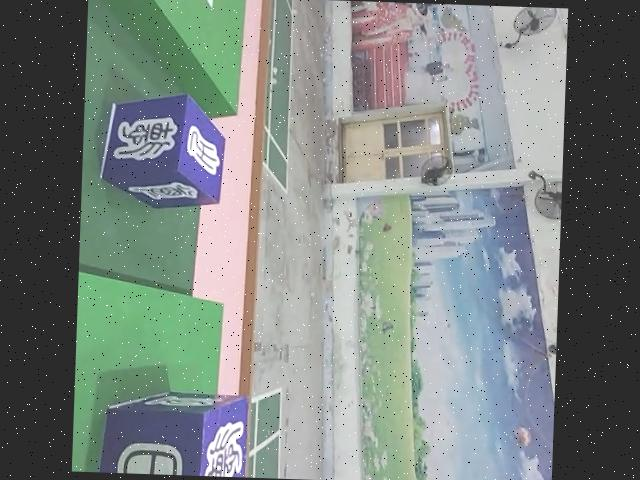R2 Fake Blue: (99, 91, 228, 210), (94, 387, 248, 478)
